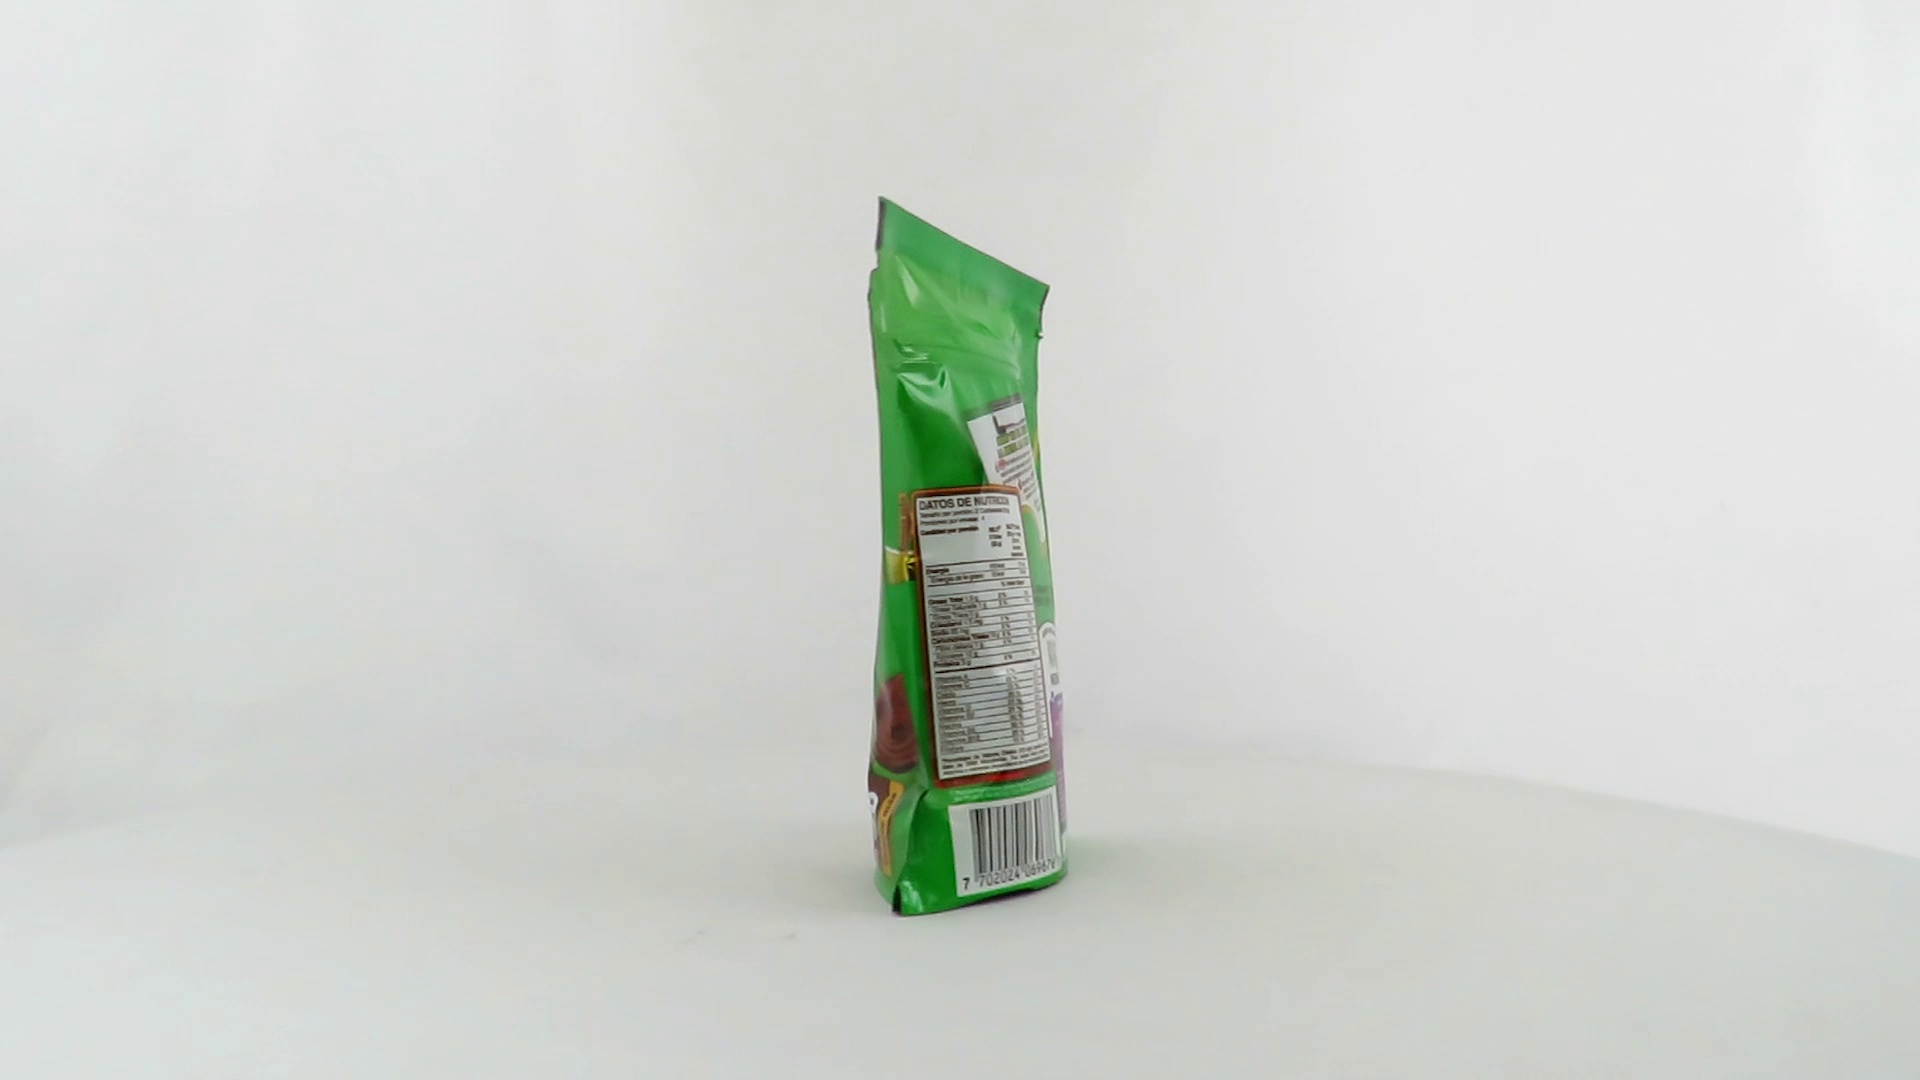COL0170203DYP10000: (862, 191, 1075, 924)
